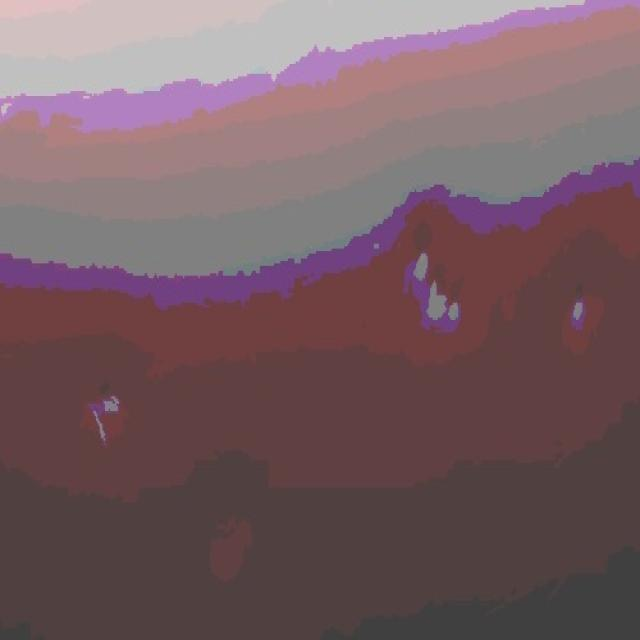dent: (402, 251, 471, 342), (72, 377, 144, 446), (208, 509, 263, 586), (557, 286, 594, 340)
